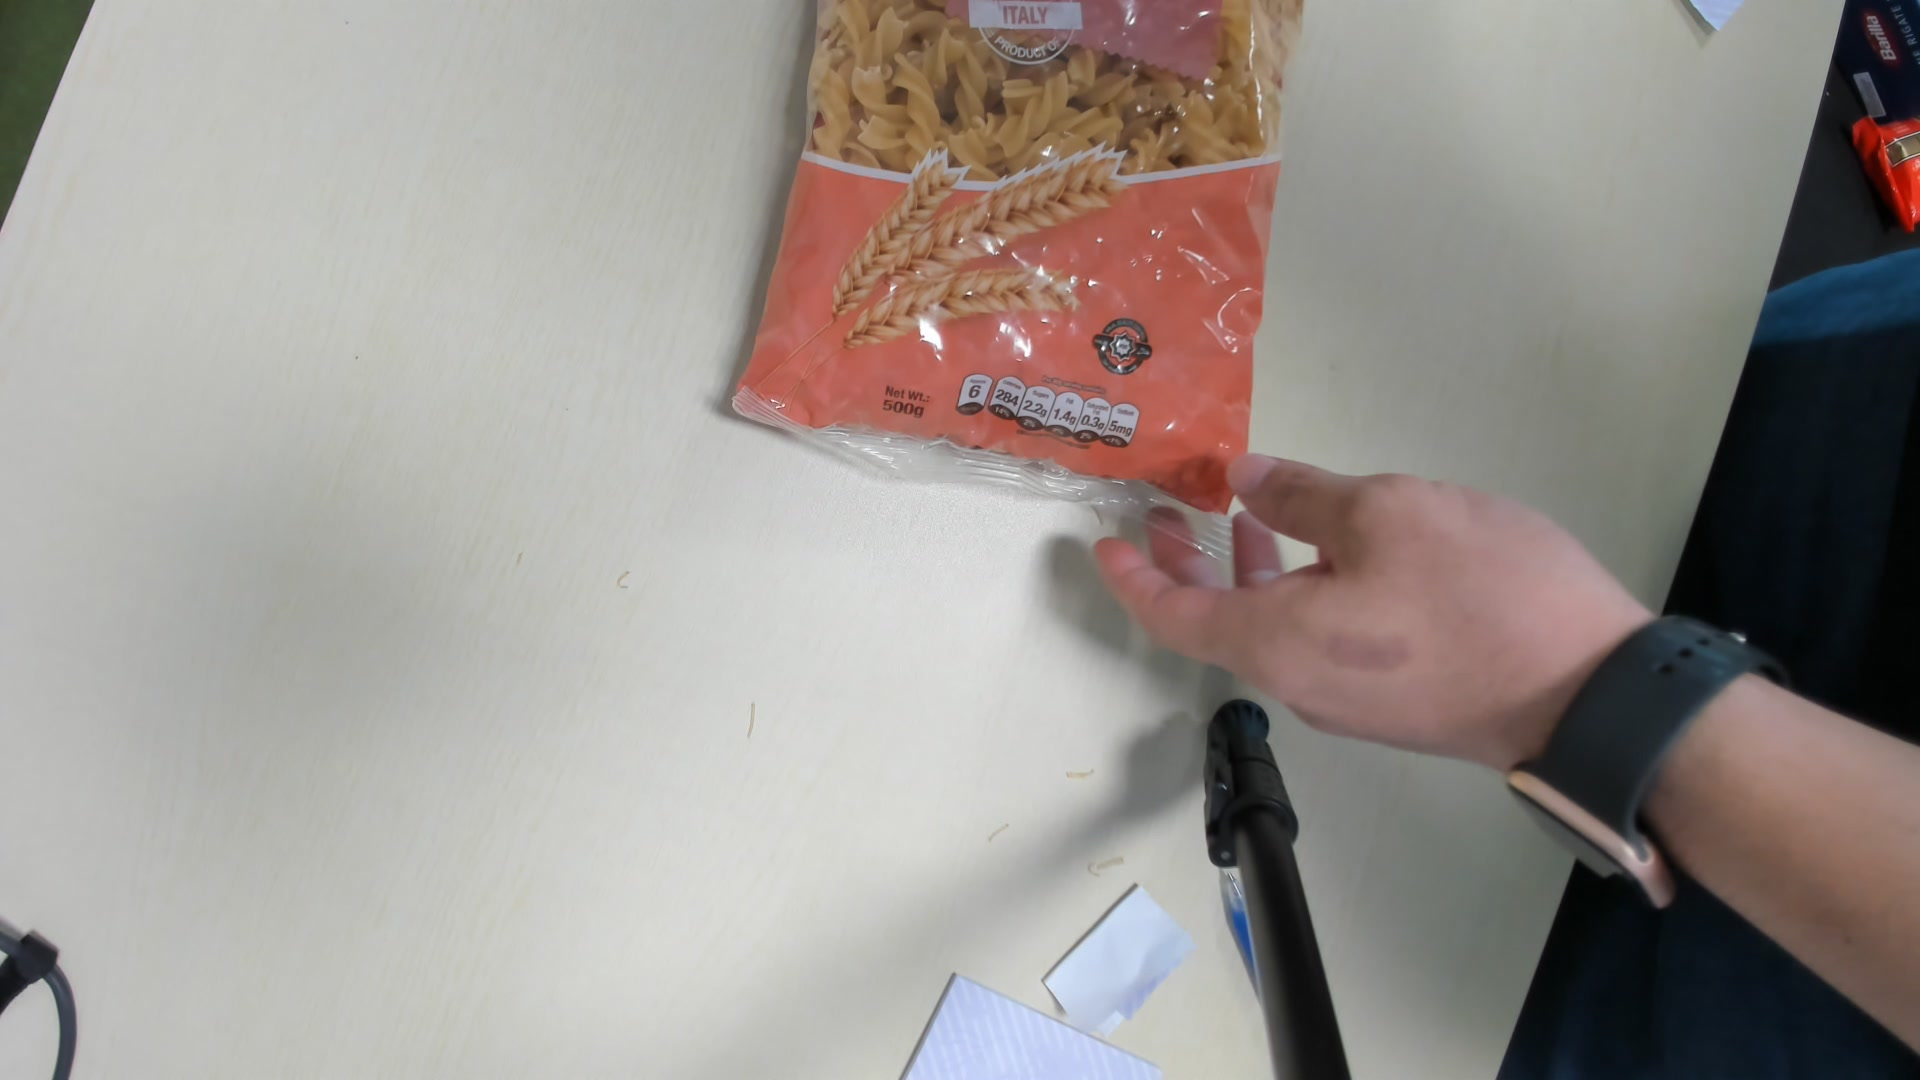Pasta_500-599g_Halal_NonHealthy: (741, 3, 1291, 513)
